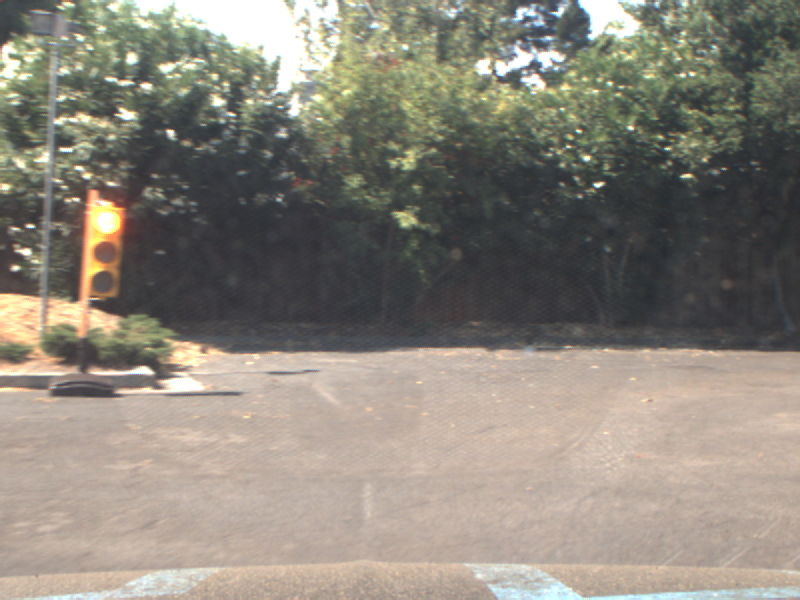red: (79, 192, 122, 300)
